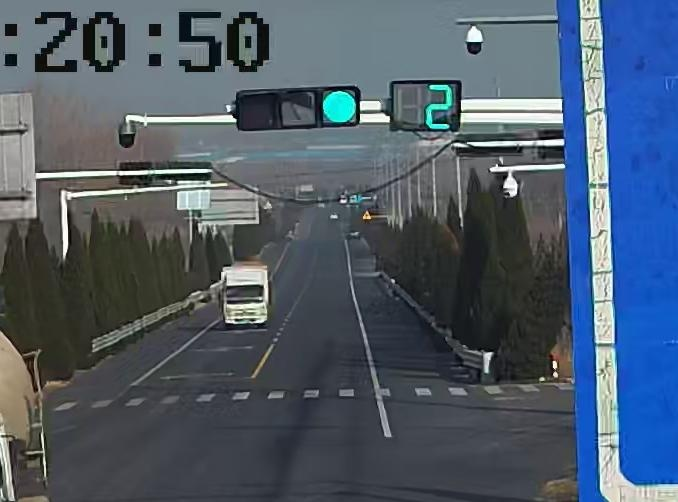green: (318, 90, 359, 125)
greentime: (424, 81, 455, 131)
